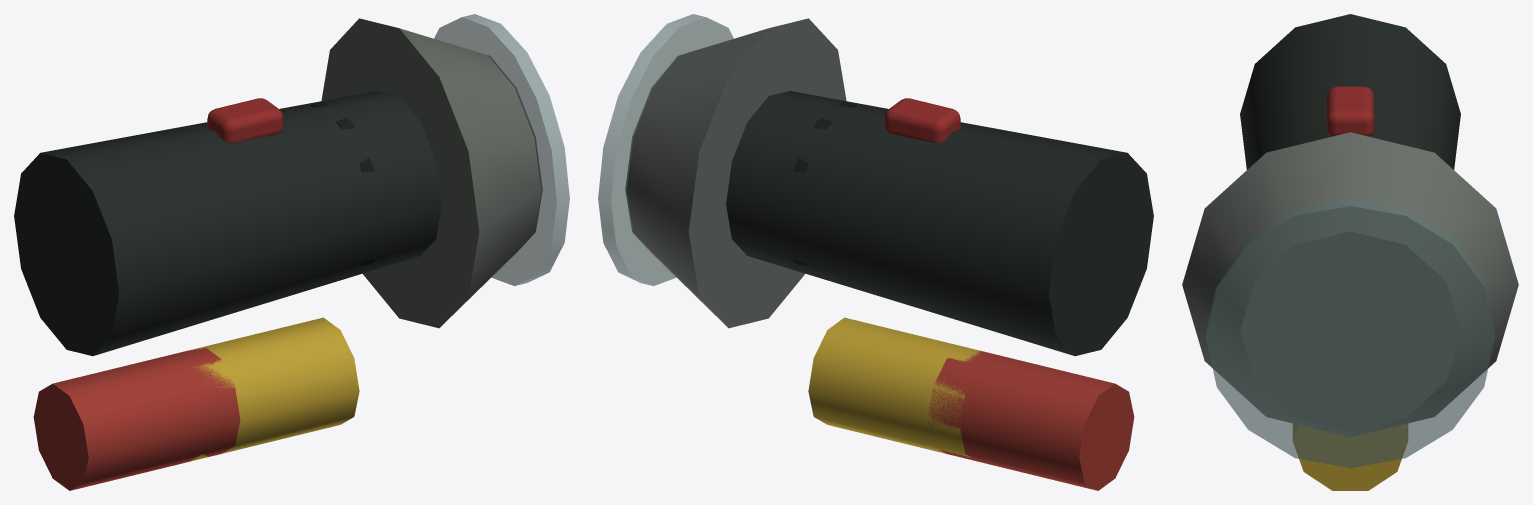
The model's file is ucb_flashlight_limited_battery_psx.glb.
The picture shows the model from 3 angles, left to right: view 1: azimuth 30°, elevation 25°; view 2: azimuth 150°, elevation 25°; view 3: azimuth 270°, elevation 25°; orthographic projection. The views are drawn at different scales.
Parts seen in each view (by area): view 1: flashlight_body, reflector_head, battery_1, battery_2, lens, switch; view 2: flashlight_body, reflector_head, battery_1, battery_2, lens, switch; view 3: reflector_head, lens, flashlight_body, battery_2, switch.
Part boxes in pixels (x1,y1,x2,y2): flashlight_body: (14, 91, 441, 356); reflector_head: (321, 18, 542, 328); battery_1: (33, 347, 240, 490); battery_2: (185, 317, 359, 461); lens: (434, 14, 569, 285); switch: (207, 98, 283, 142); flashlight_body: (726, 91, 1153, 356); reflector_head: (625, 18, 846, 328); battery_1: (928, 351, 1134, 490); battery_2: (808, 317, 982, 457); lens: (598, 14, 733, 285); switch: (884, 98, 960, 142); reflector_head: (1182, 132, 1518, 436); lens: (1205, 199, 1495, 467); flashlight_body: (1240, 14, 1460, 169); battery_2: (1293, 424, 1407, 490); switch: (1326, 86, 1374, 136).
Bounding box in the file's own units: 2.03 × 1.65 × 1.28.
